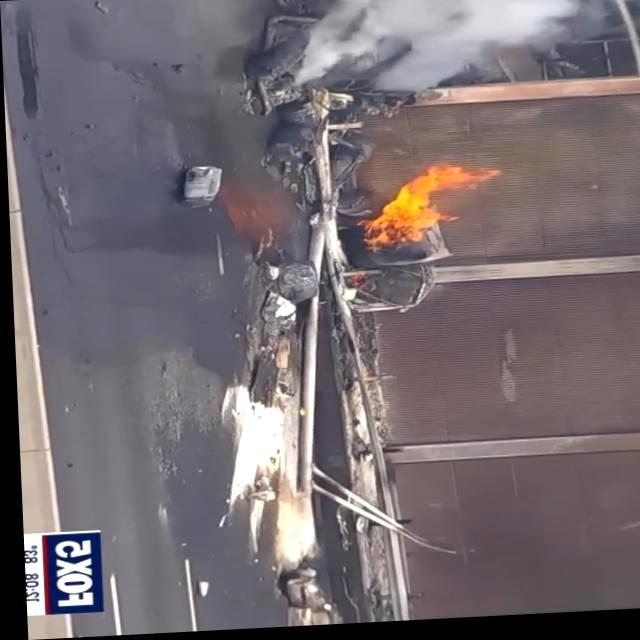fire: (356, 157, 504, 249)
